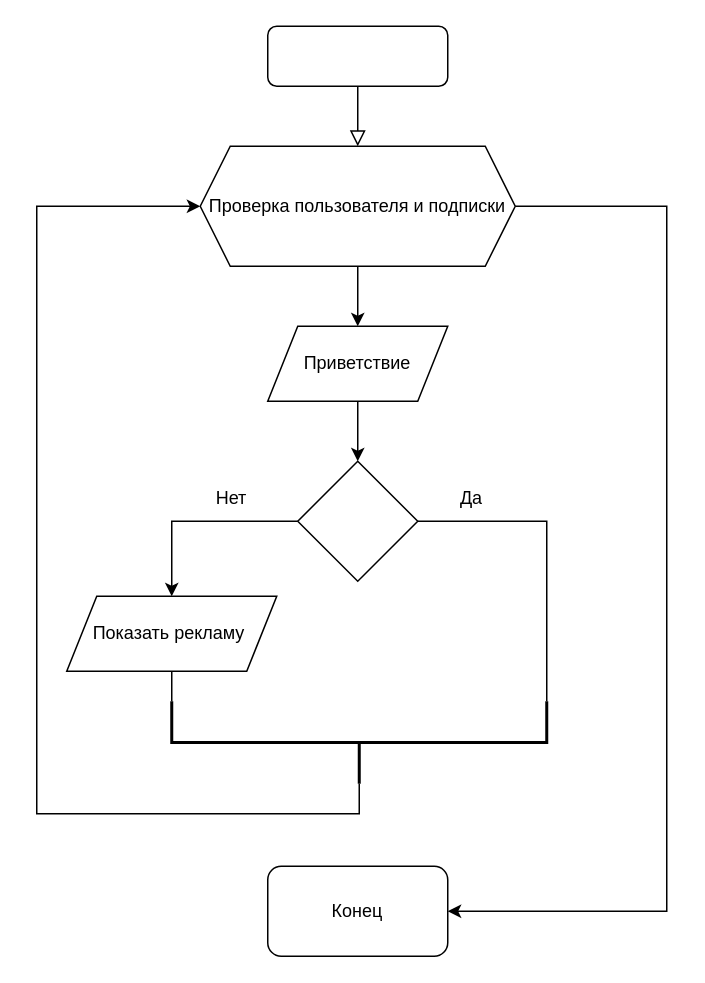
The diagram is 705 pixels wide and 983 high, and some of its shapes have lost their labels. The centre of each missing label's shape, as x and y in pixels:
Есть ли подписка: [357,520]
Начало: [357,55]
